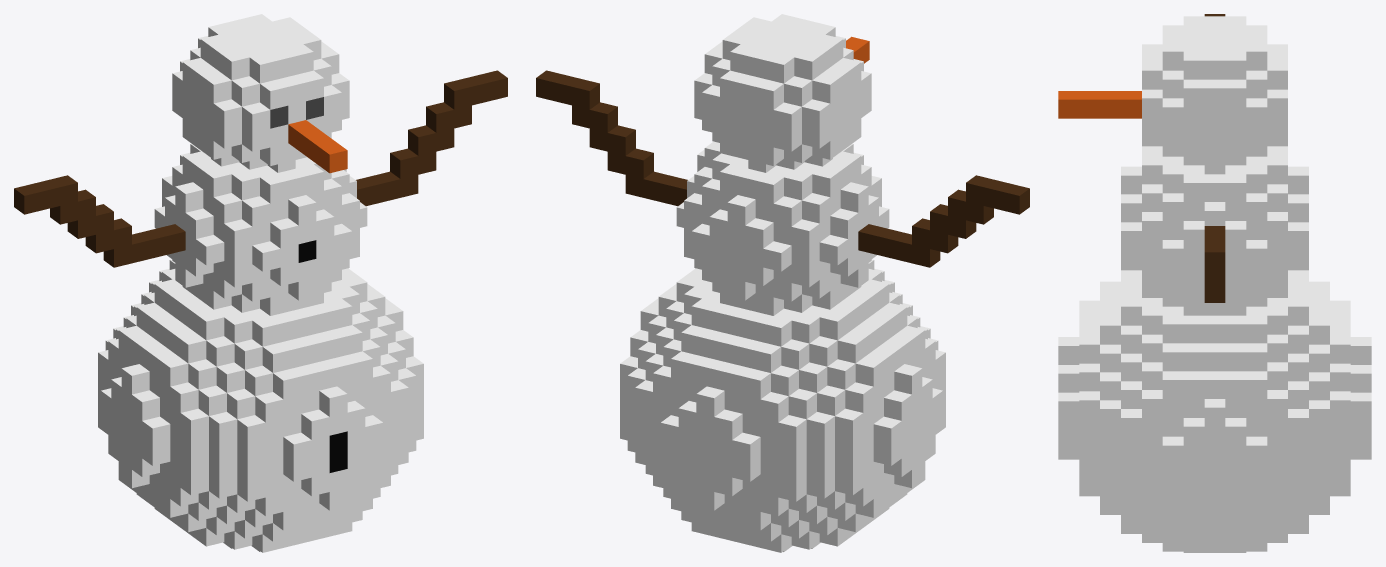
Rendered from Bonhomme_de_neige.obj.
3 renders of one model, left to right at view 1: azimuth 30°, elevation 25°; view 2: azimuth 150°, elevation 25°; view 3: azimuth 270°, elevation 25°, orthographic.
Visible parts, largest first — view 1: Bonhomme_de_neige; view 2: Bonhomme_de_neige; view 3: Bonhomme_de_neige.
Part boxes in pixels (<box>): Bonhomme_de_neige: <box>14,14,507,552</box>; Bonhomme_de_neige: <box>536,14,1029,552</box>; Bonhomme_de_neige: <box>1058,14,1371,552</box>.
Bounding box in the file's own units: 27 × 26 × 15.
1 material, 1 textured.
